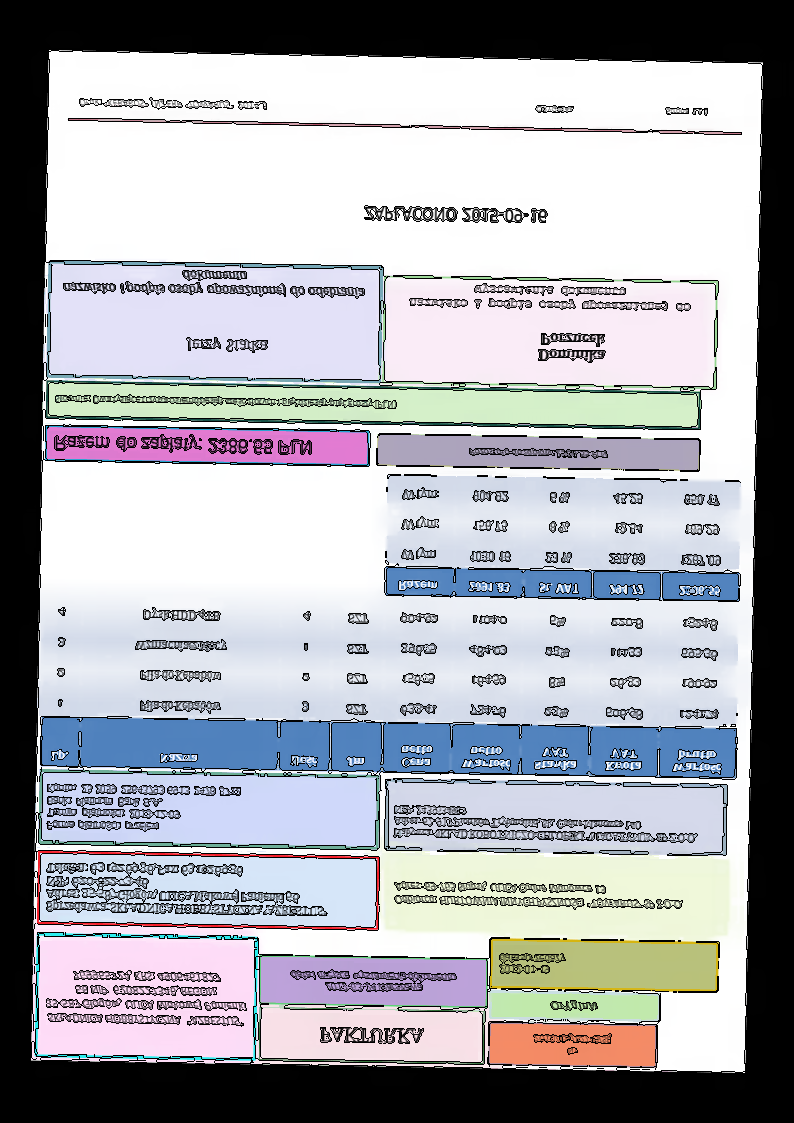Table: (39, 593, 741, 781), (383, 473, 742, 605)
TextBox: (42, 857, 332, 922), (390, 802, 700, 847), (41, 966, 250, 1030), (44, 779, 245, 837), (61, 266, 368, 300), (406, 281, 694, 317), (392, 878, 686, 913), (52, 390, 400, 413), (52, 433, 313, 459), (287, 967, 459, 997), (361, 204, 552, 227), (77, 95, 271, 114), (533, 102, 712, 120), (535, 329, 610, 367), (466, 444, 610, 462), (317, 1024, 424, 1048), (530, 1031, 614, 1059), (181, 333, 271, 357), (497, 950, 567, 979), (547, 998, 600, 1016)
